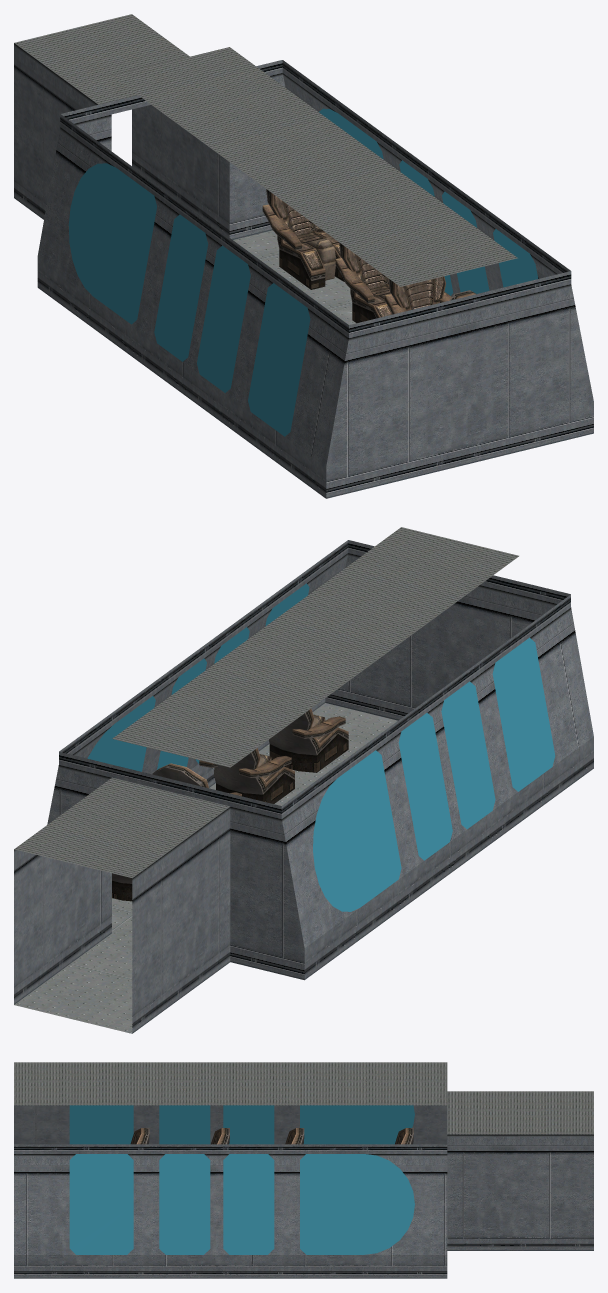
Rendered from thm_all_test_falcon_r2_cabin_mesh_r2.fbx.
The picture shows the model from 3 angles, top to bottom: view 1: azimuth 30°, elevation 25°; view 2: azimuth 150°, elevation 25°; view 3: azimuth 270°, elevation 25°; orthographic projection. The views are drawn at different scales.
Visible parts, largest first — view 1: mesh_node; view 2: mesh_node; view 3: mesh_node.
Boxes of the visible parts, box(x1,y1,x2,y2) form: mesh_node: box(14, 14, 593, 498); mesh_node: box(14, 527, 593, 1033); mesh_node: box(14, 1062, 593, 1278).
Size of the model in its own units: 4.54 by 3.14 by 11.34.
